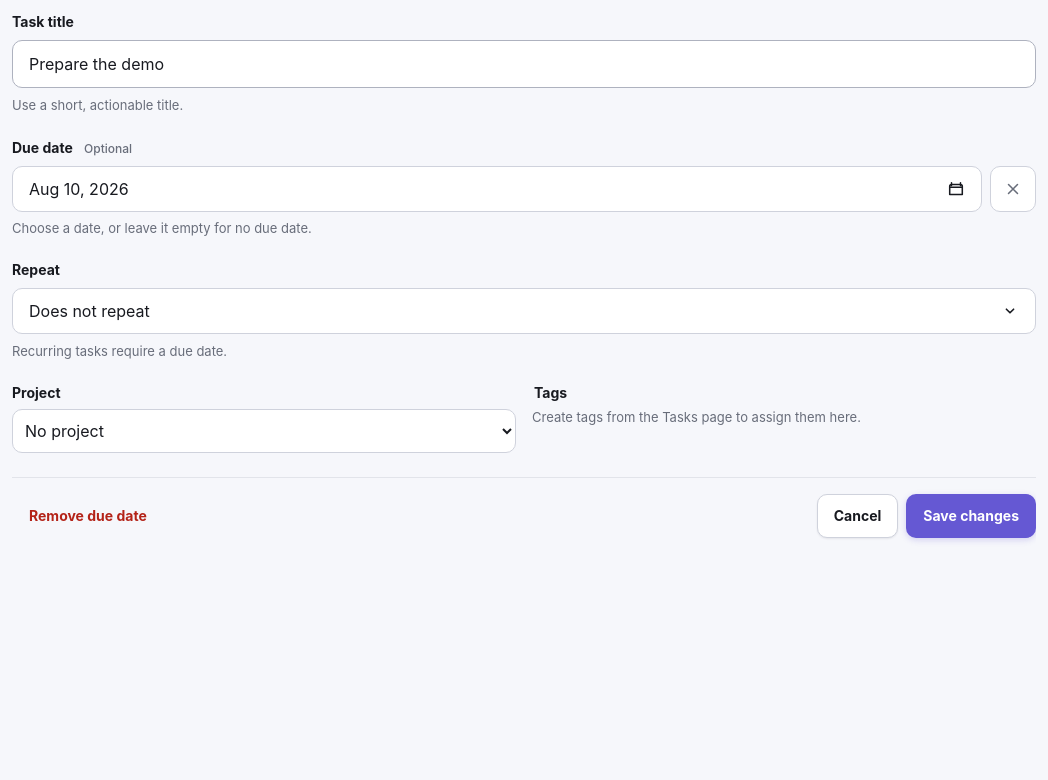
Test: AppTaskEditor › requires a due date and at least one day for recurrence
The image size is (1048, 780).
Click the button named "Clear due date": (1013, 189) [990,166,1036,212]
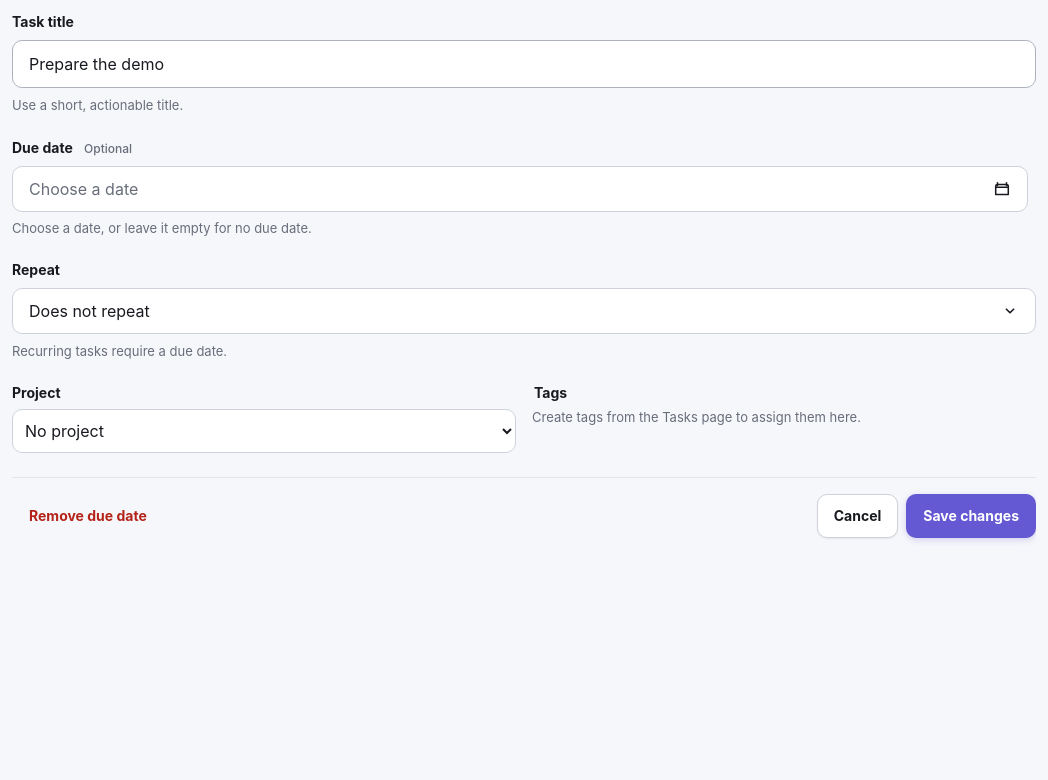
Click the button with class "select-dropdown__trigger": (89, 311) [12,288,1036,334]
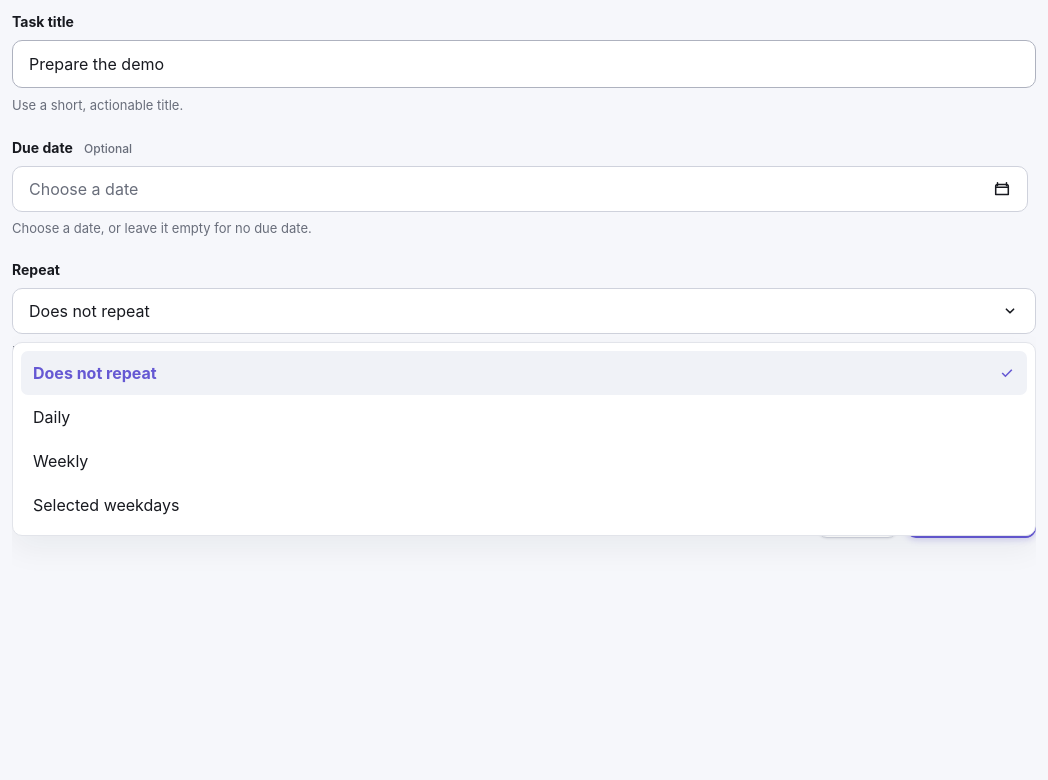
Click the option "Selected weekdays": (106, 505) [21,483,1027,527]
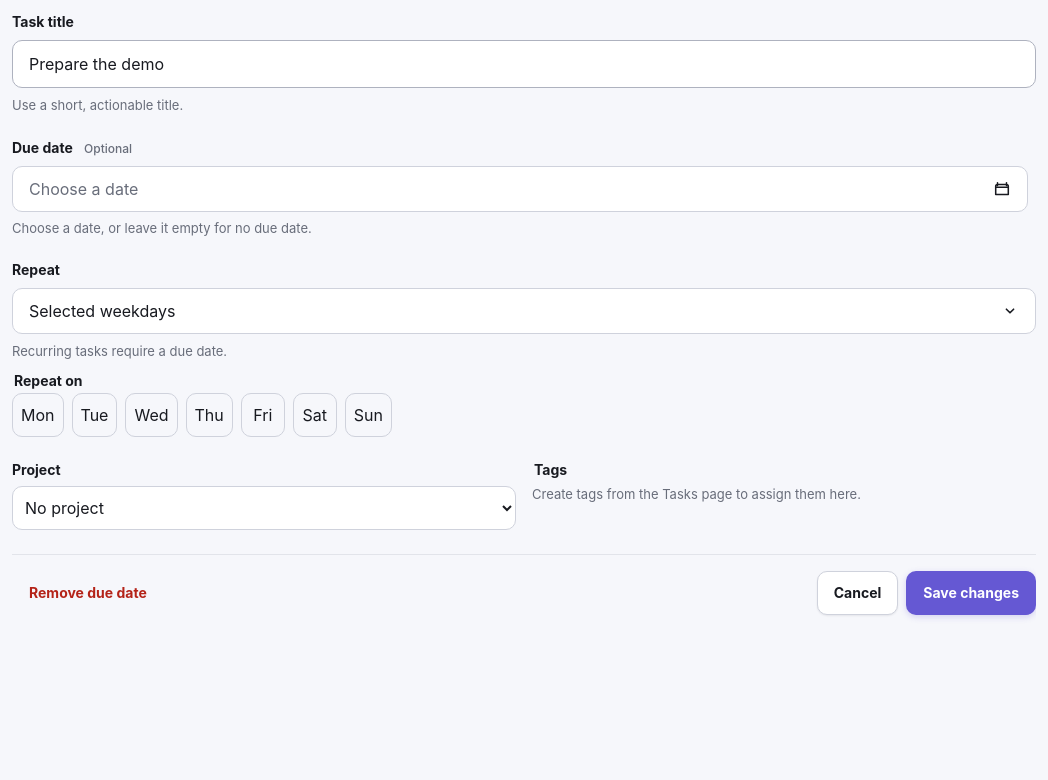
Submit the form
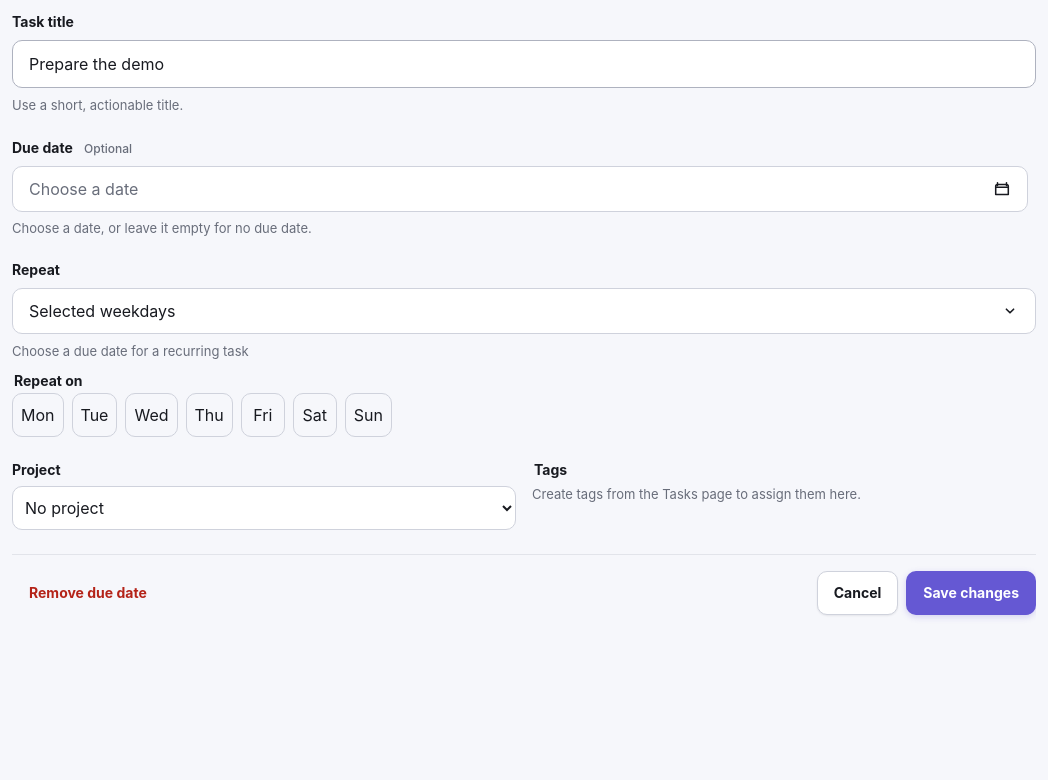
Now the message "Choose a due date for a recurring task" is shown, box [12,343,249,359]
